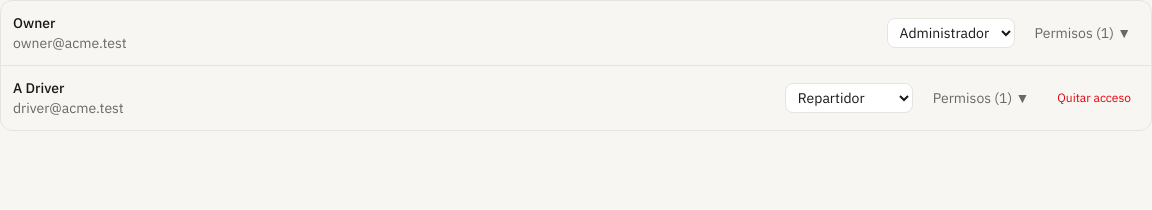
Test: UsersTable — revoking access › asks for confirmation before doing anything
The image size is (1152, 210).
Click the button "Quitar acceso" at (1094, 98), box [1049,86,1139,110]
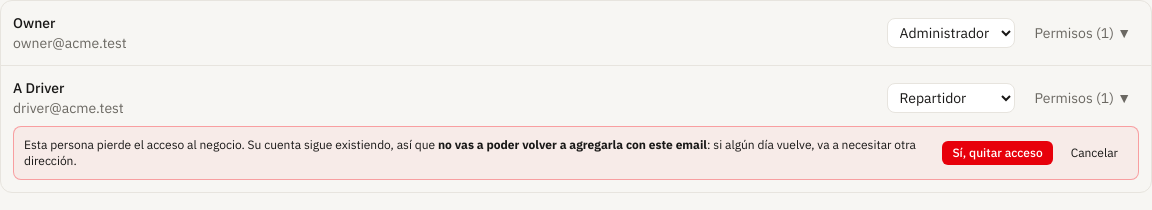
Check: the button "Sí, quitar acceso" is shown, box [942,141,1053,165]
